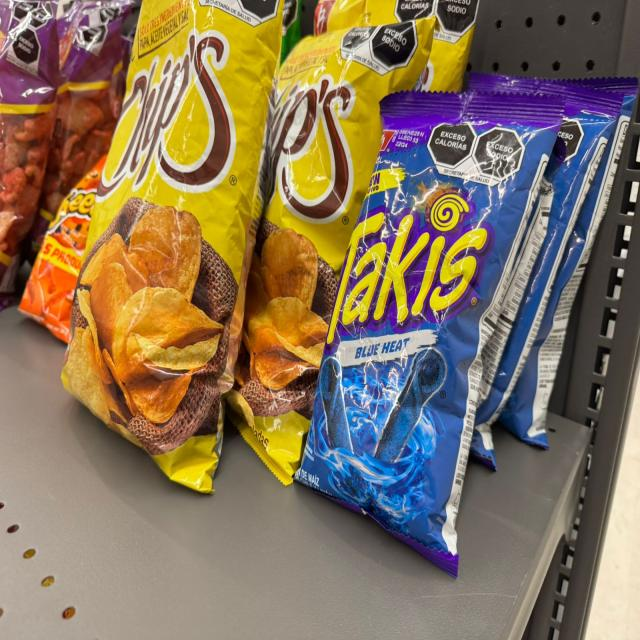CHEETOS TORCIDITOS 240GR: (26, 139, 123, 347)
Papas Chips Barcel 170 gr bolsa con sal: (50, 6, 289, 500), (216, 16, 438, 491), (318, 0, 485, 87)
Takis Blue 75g: (290, 77, 567, 582), (454, 87, 626, 464), (522, 70, 640, 450)
chicharrones de cerdo intenso: (31, 2, 136, 264), (0, 3, 57, 294)
